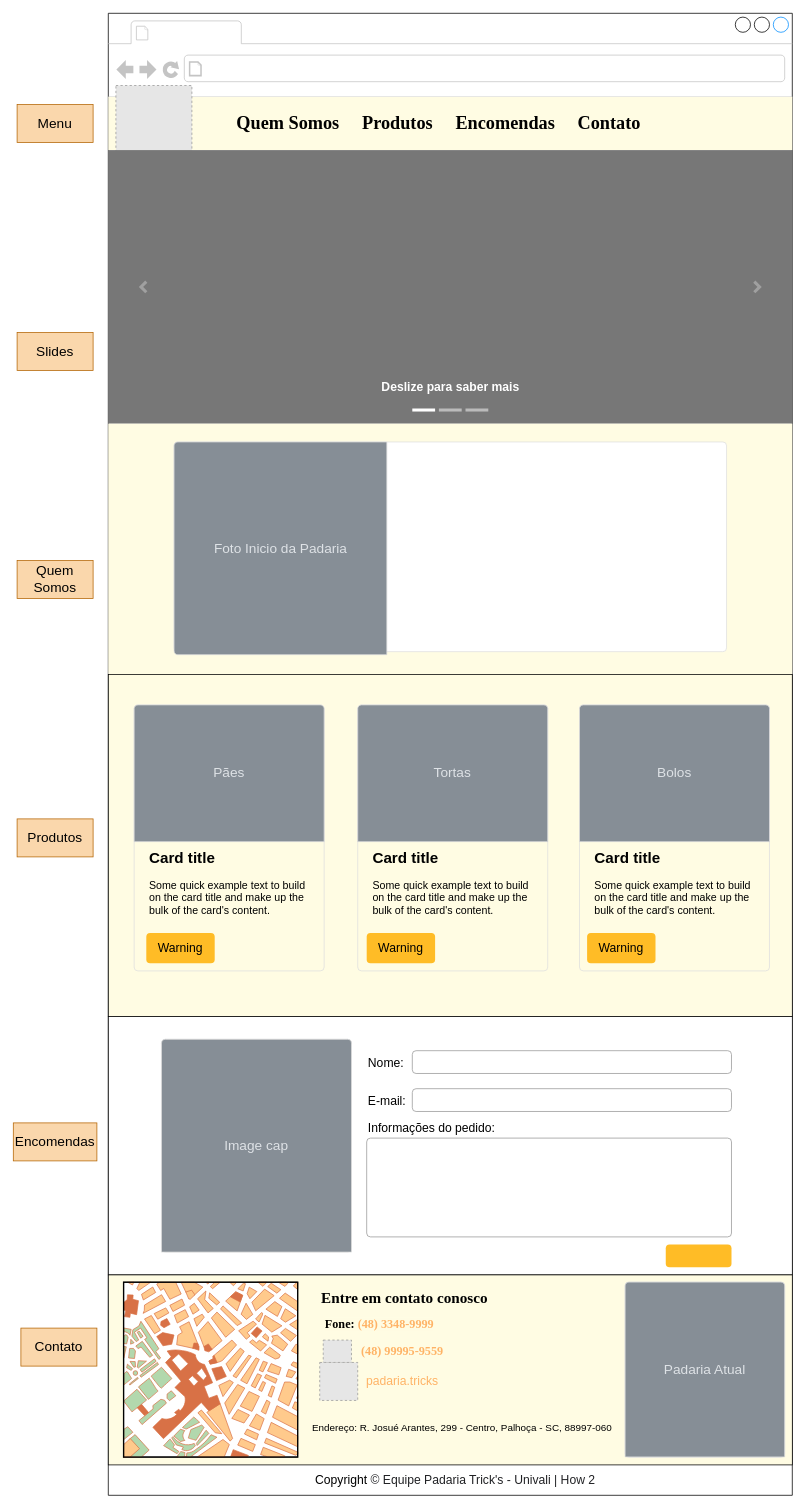
Image size: 806x1509. Some labels were removed from this diagram. Grey dashed boxes stand in for pictures. The shapes that lost their labels are listed below. From the top down, each one's centre as x and y in pixels, then its label:
At (195,32): "Trick's".
At (301,68): "https://www.padariatricks.com.br".
At (450,286): "Preparado com os melhores ingredientes...".
At (450,546): "Aqui será a parte do Quem Somos, falando sobre a história da padaria.".
At (698,1255): "Enviar".
